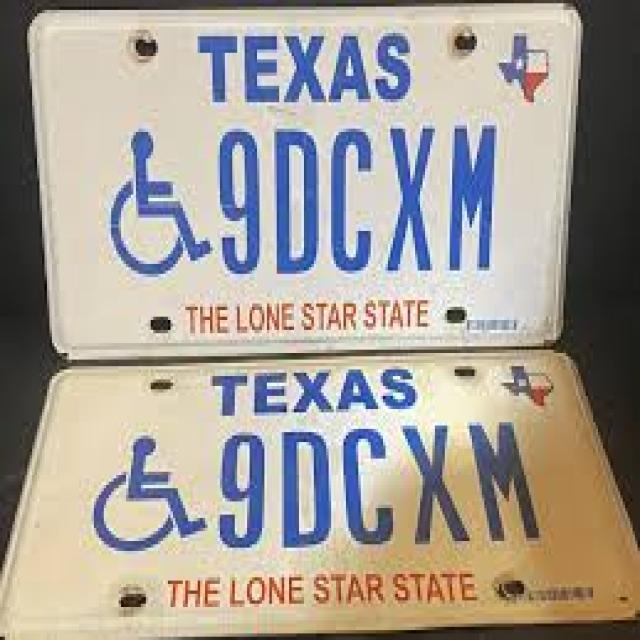symbol_of_access: (98, 117, 216, 289), (89, 428, 212, 560)
